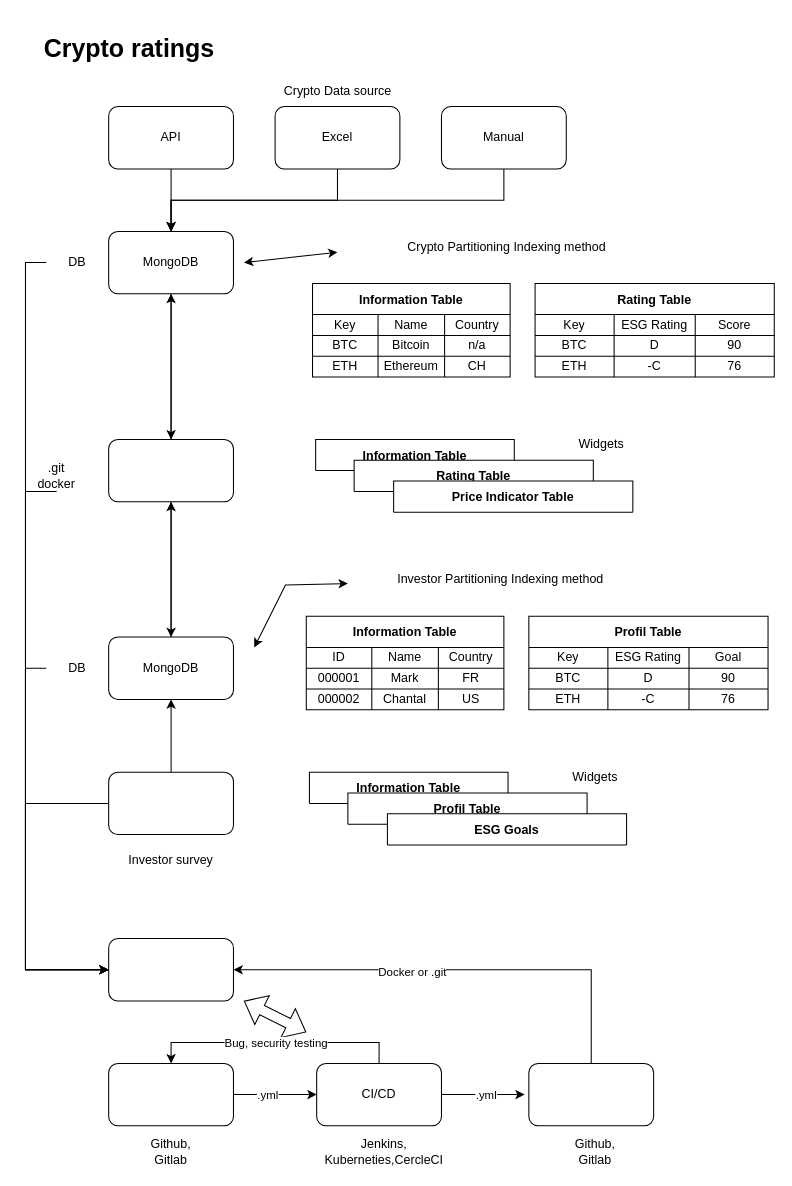
Image size: 792x1186. Some labels were removed from this diagram. The centre of each missing label's shape, as x and y in pixels:
"Jelastic system admin" belongs at (170,969).
"Matchmaking.py (ex. Standard deviation)" belongs at (170,470).
"Production" belongs at (591,1094).
"Repo" belongs at (170,1094).
"UI" belongs at (170,803).
